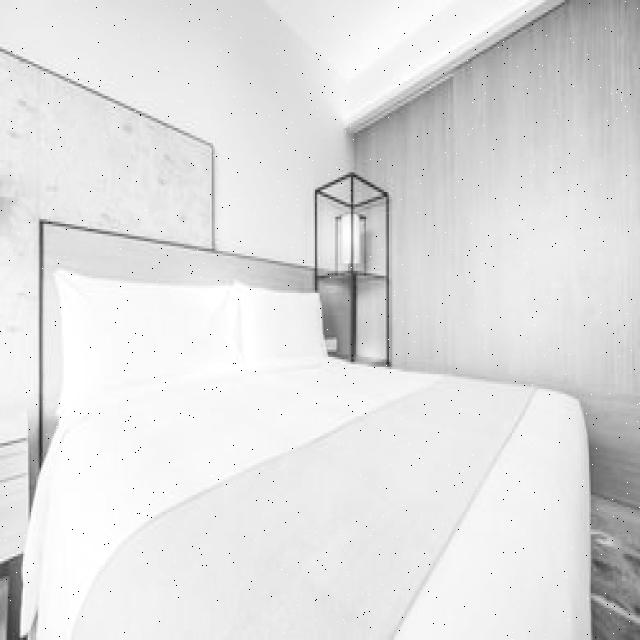bed: (24, 214, 590, 640)
